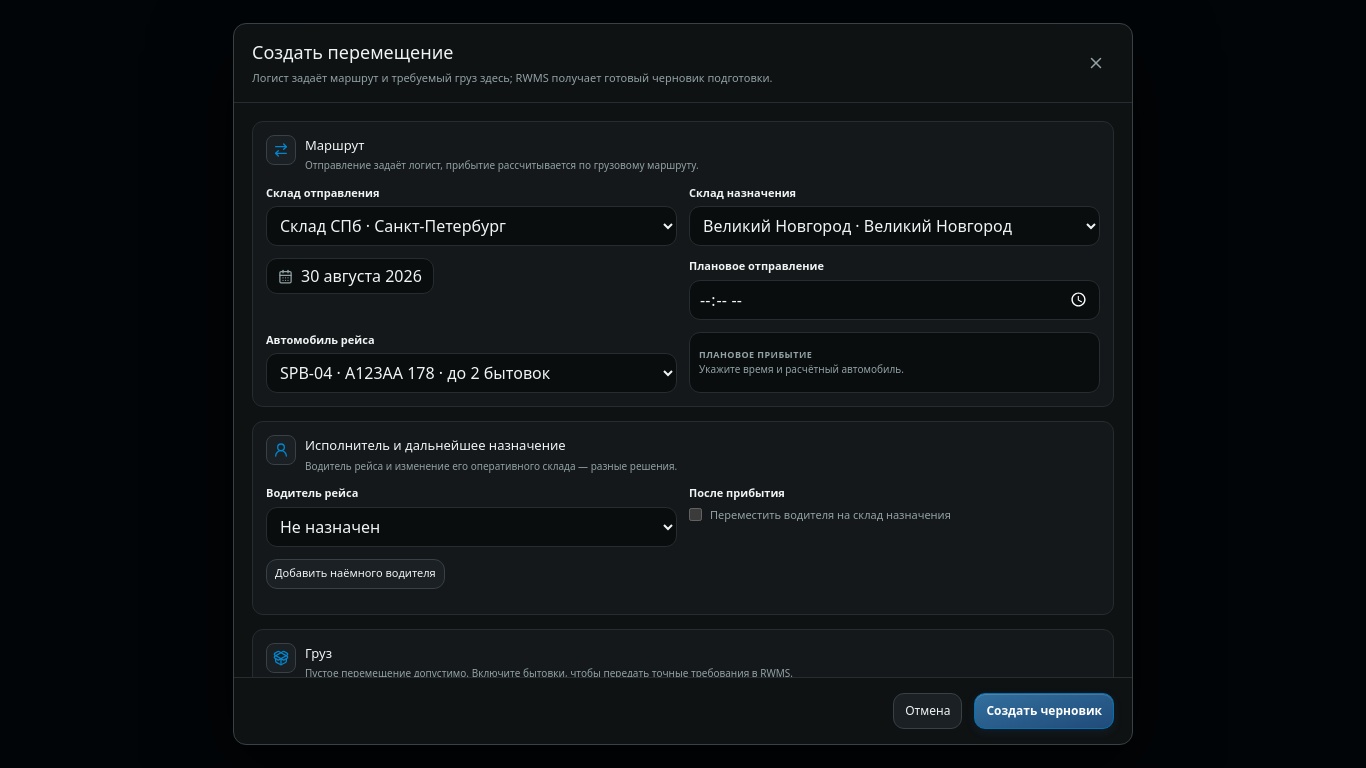
Test case: standalone transfer draft dialog › creates a reusable contractor explicitly and selects that driver for the trip
Click the button "Добавить наёмного водителя" at (355, 574), box [266,558,445,588]
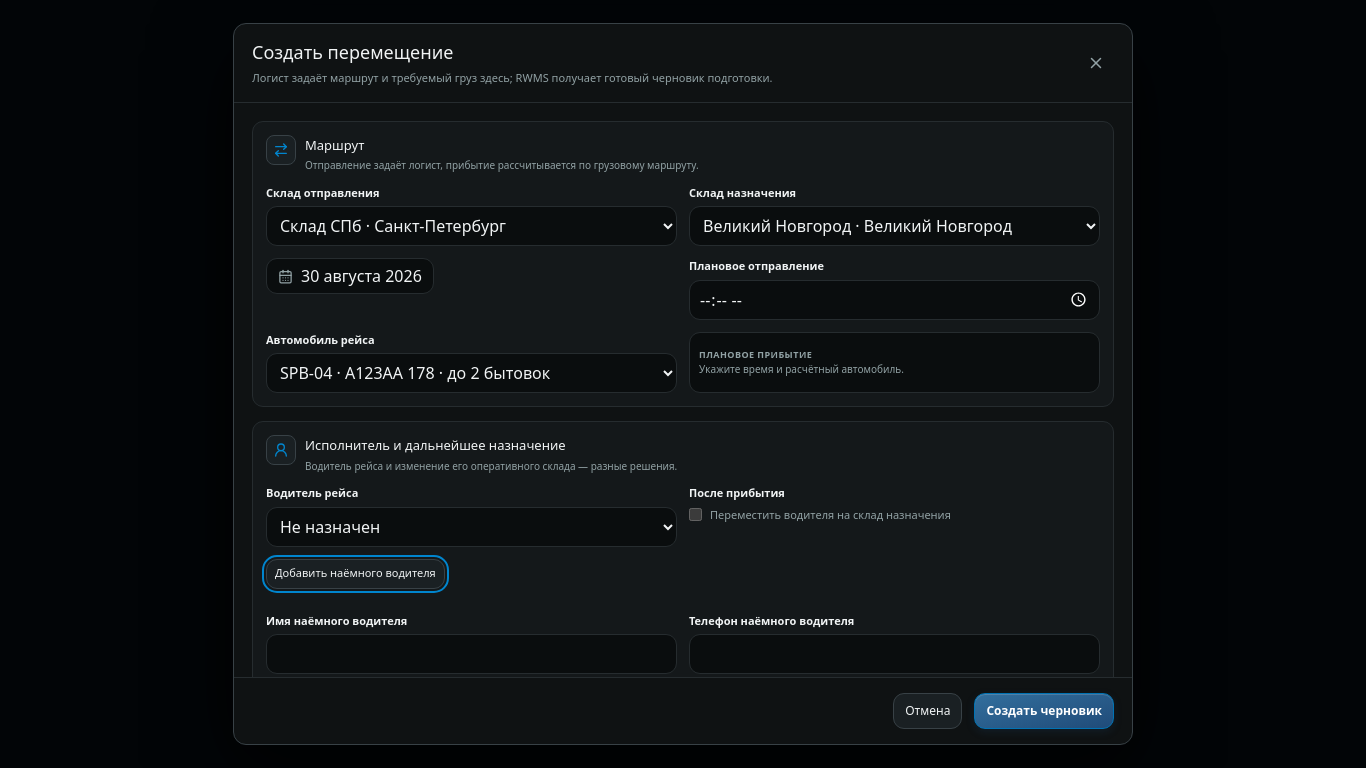
Type "Иванов Илья" into the field labelled "Имя наёмного водителя" at (472, 654), box [266,634,677,674]
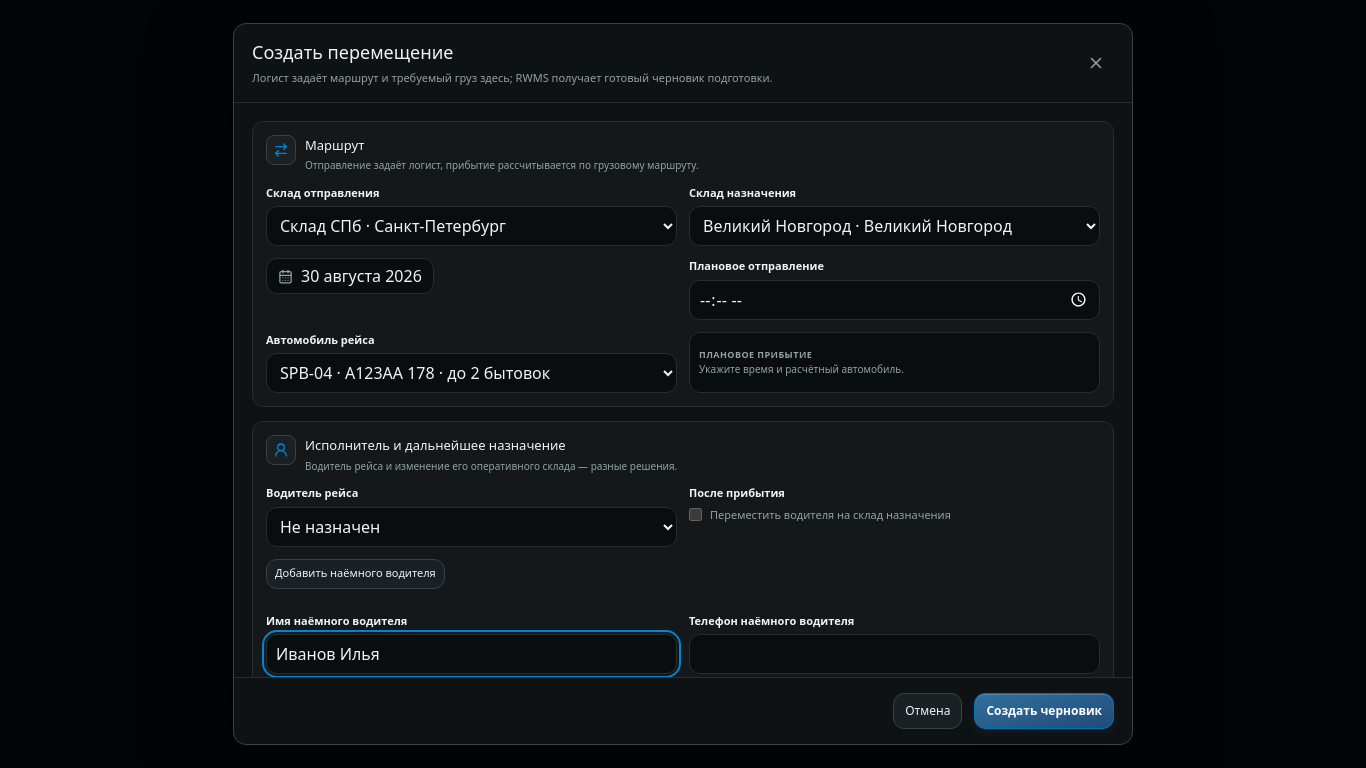
Type "+79990001122" into the field labelled "Телефон наёмного водителя" at (894, 654), box [689,634,1100,674]
(page scrolled)
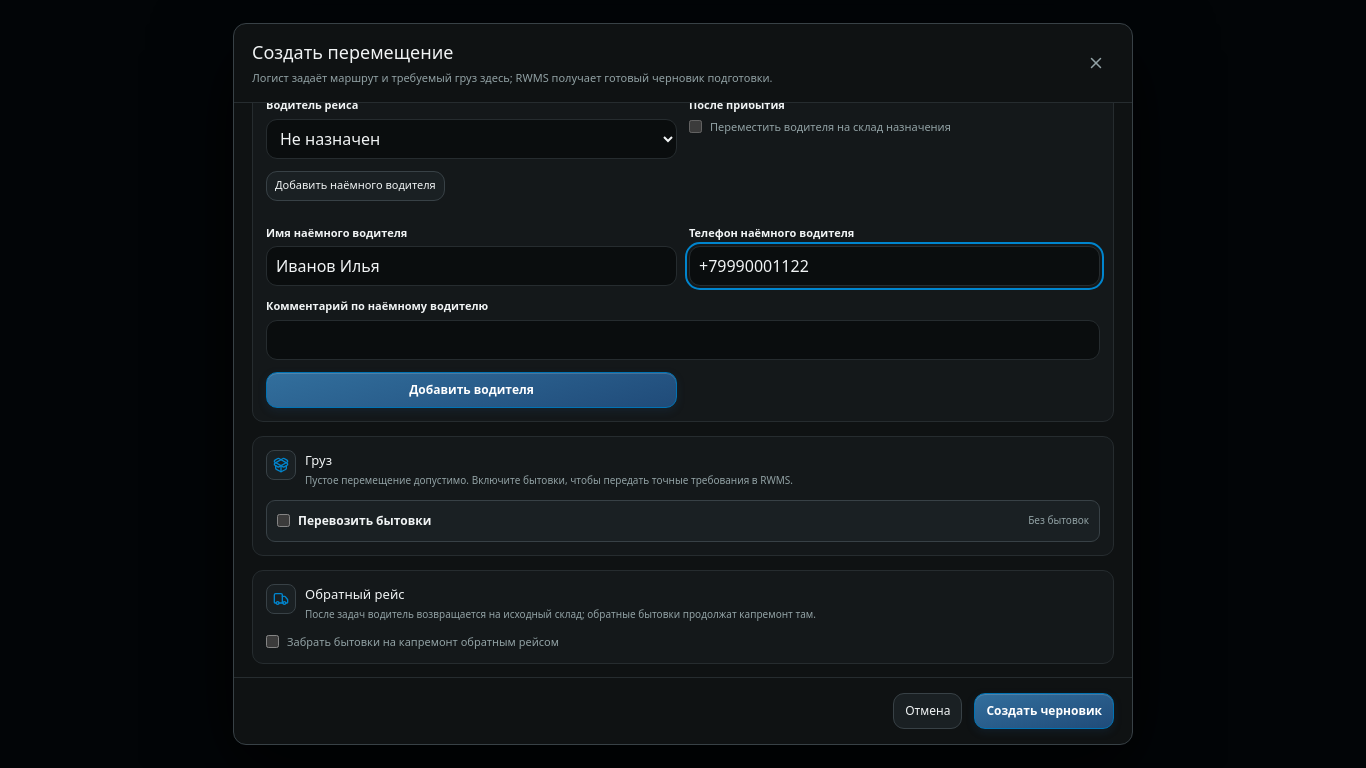
Click the button "Добавить водителя" at (472, 390), box [266,372,677,408]
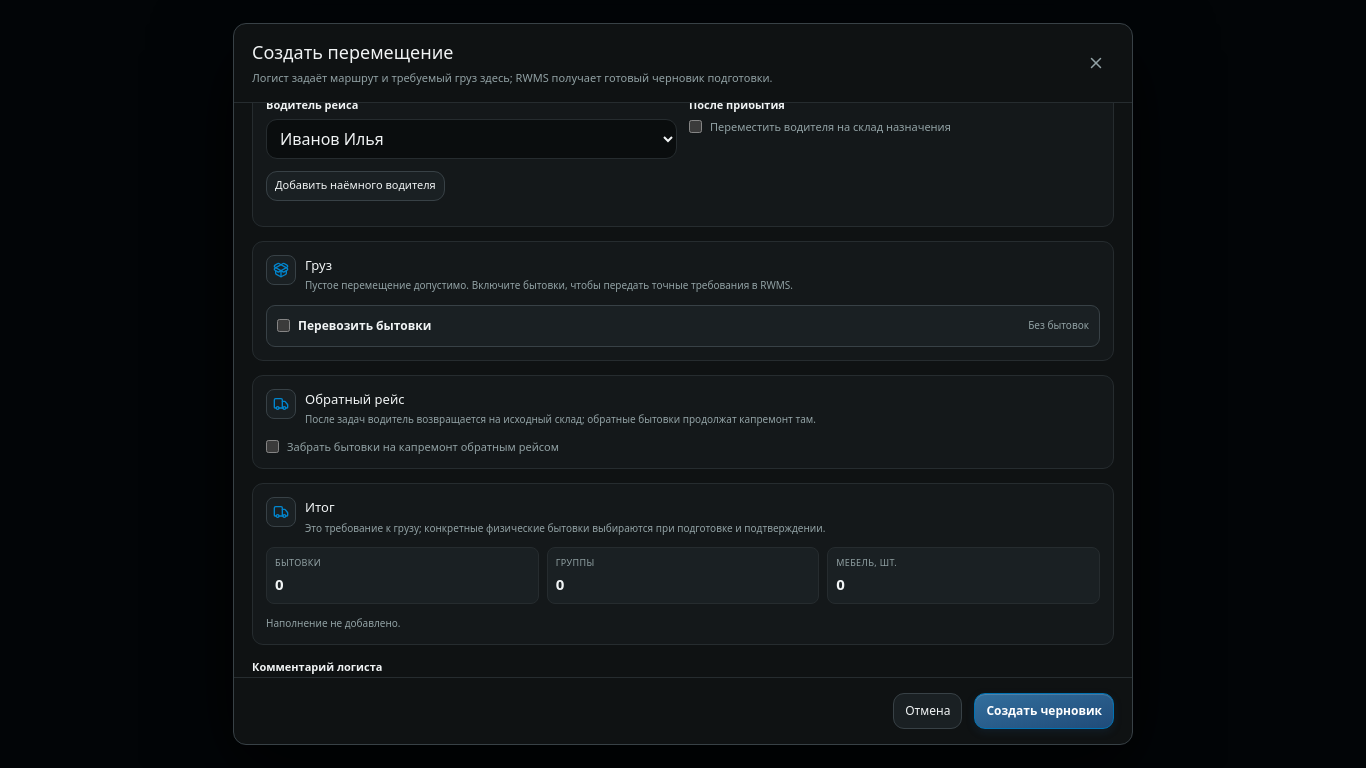
Now the dropdown labelled "Водитель рейса" shows "Иванов Илья", box [266,118,677,158]
